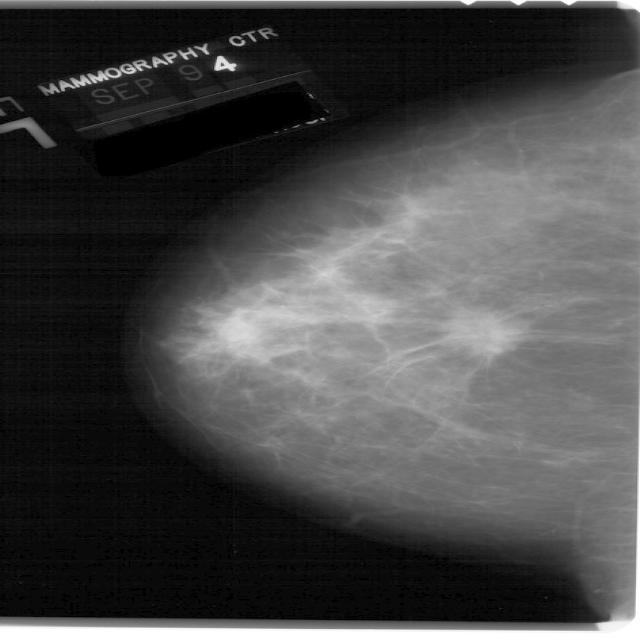tumour: (437, 308, 528, 360)
